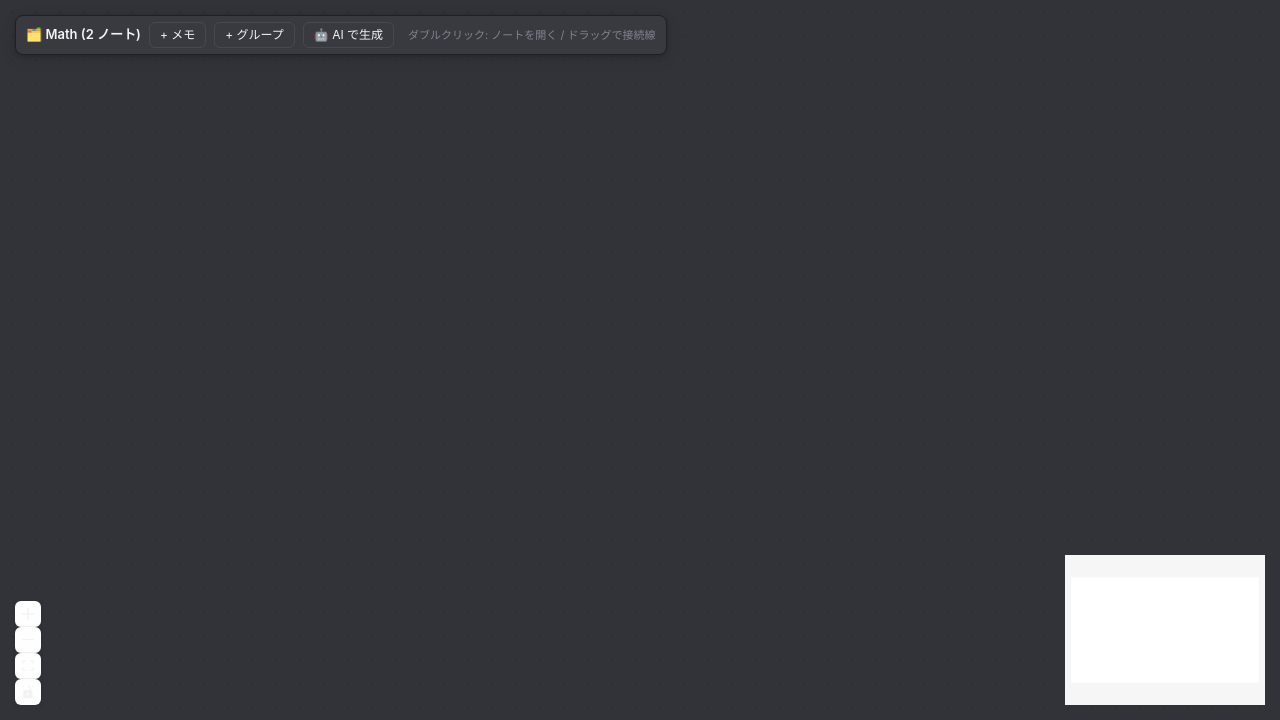
Test: CanvasView actions › filters edges with unknown AI node ids
Click the button "🤖 AI で生成" at (348, 35), box [303, 22, 394, 48]
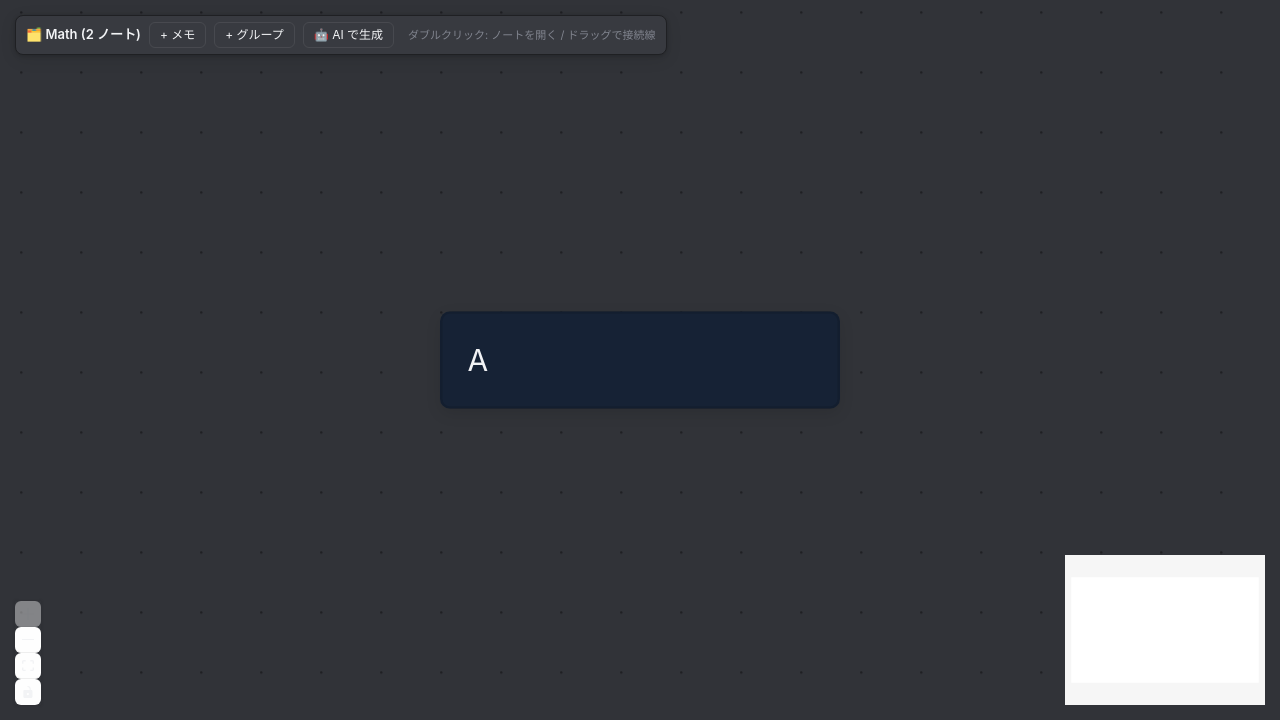
expect the text "A" is shown: met, box [468, 341, 488, 379]
